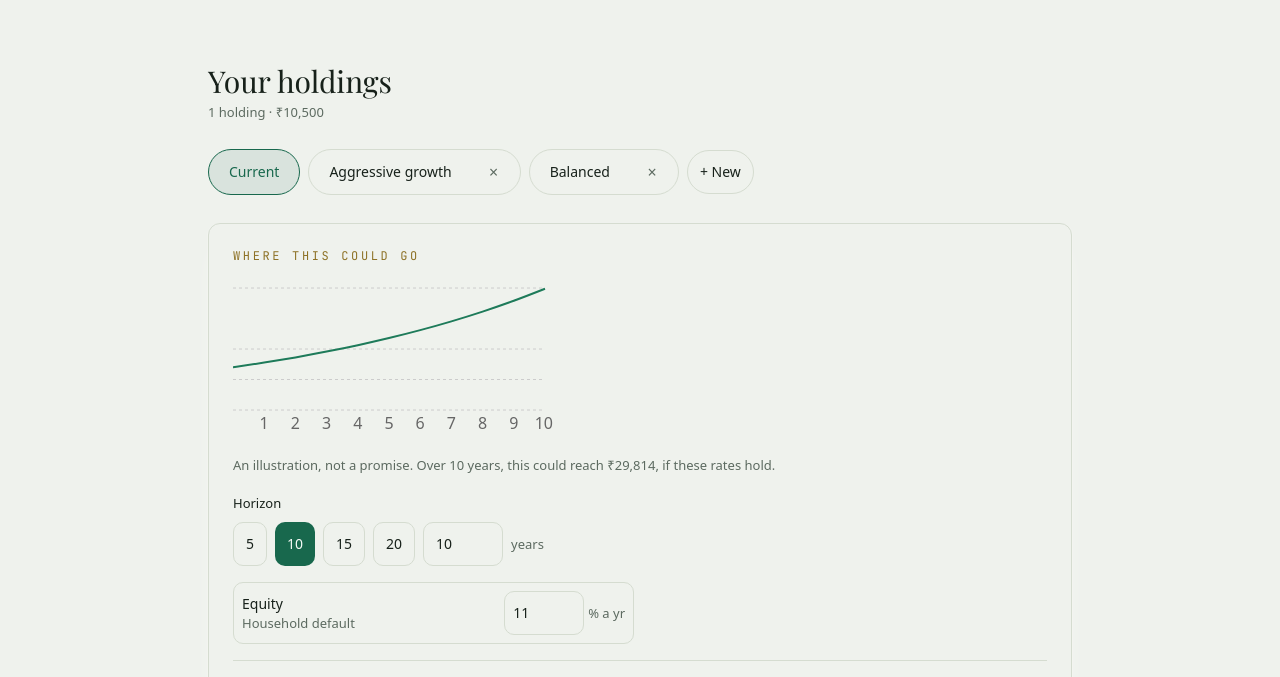
Portfolio › ledger switching › does not overwrite a newer tab with a slow response from an abandoned one
(page scrolled)
Click the tab "Aggressive growth" at (391, 172), box [313, 150, 468, 194]
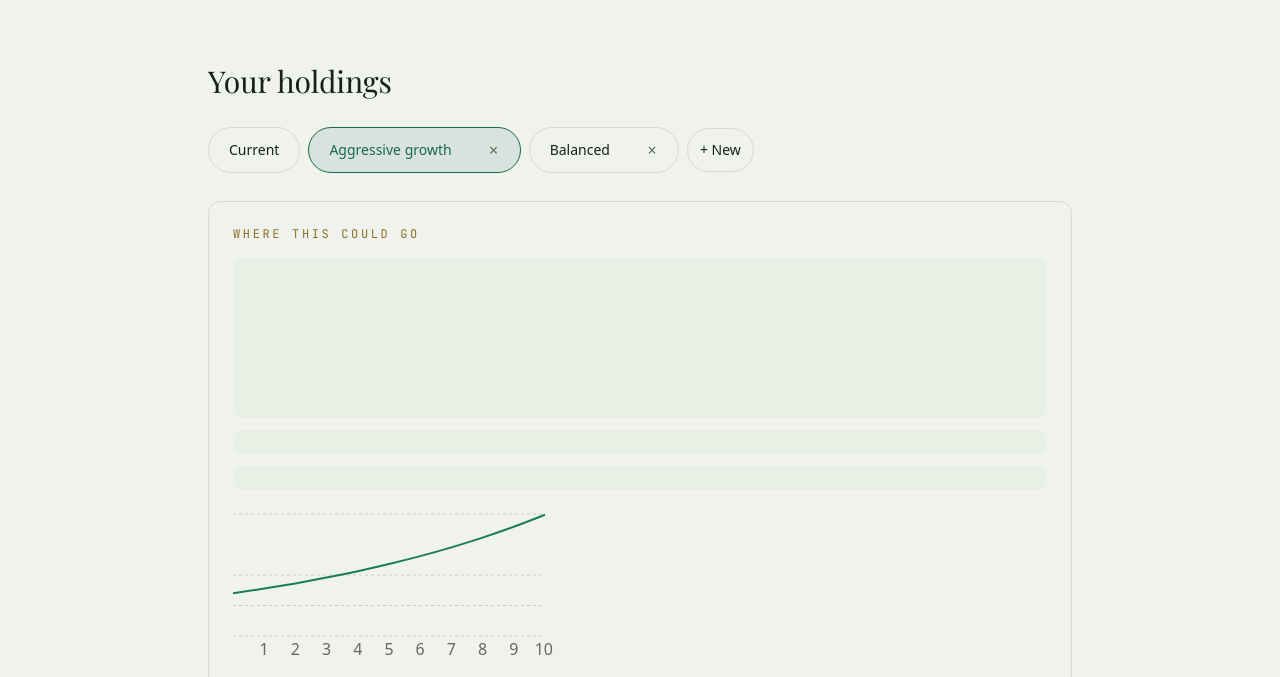
Click the tab "Balanced" at (580, 150), box [534, 128, 626, 172]
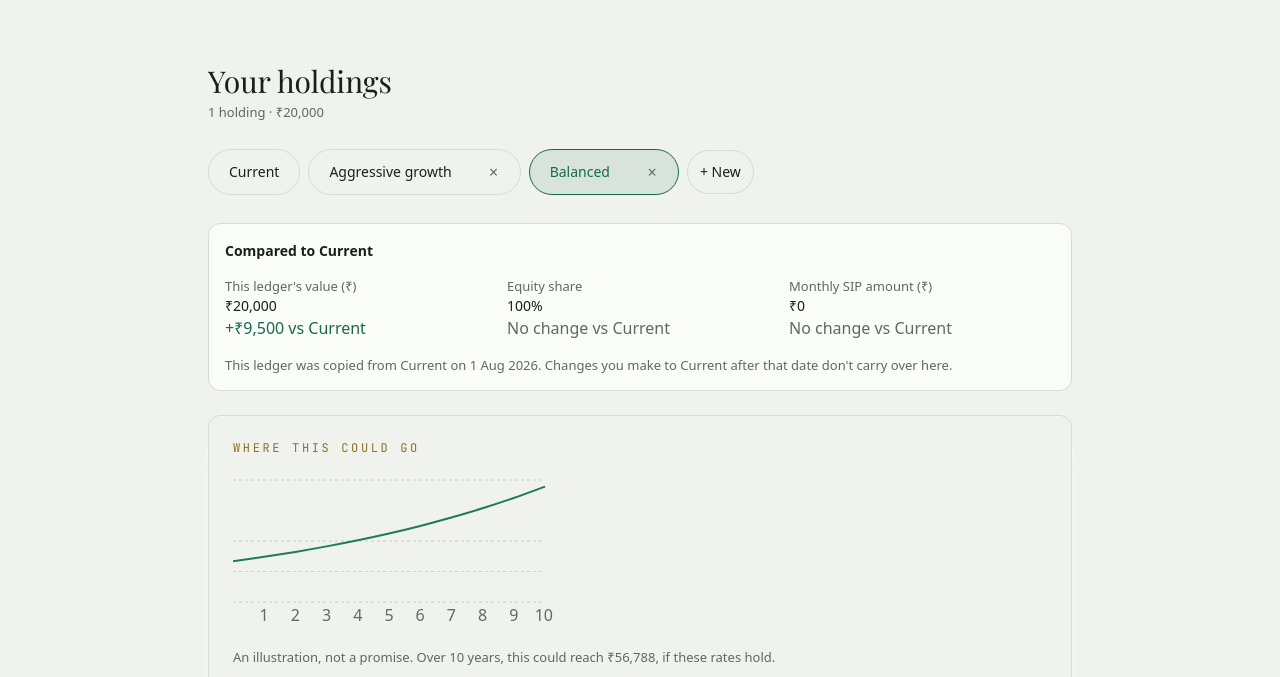
Check: the text "₹10,500" is not shown
Check: the text "1 holding · ₹20,000" is shown 2 times
